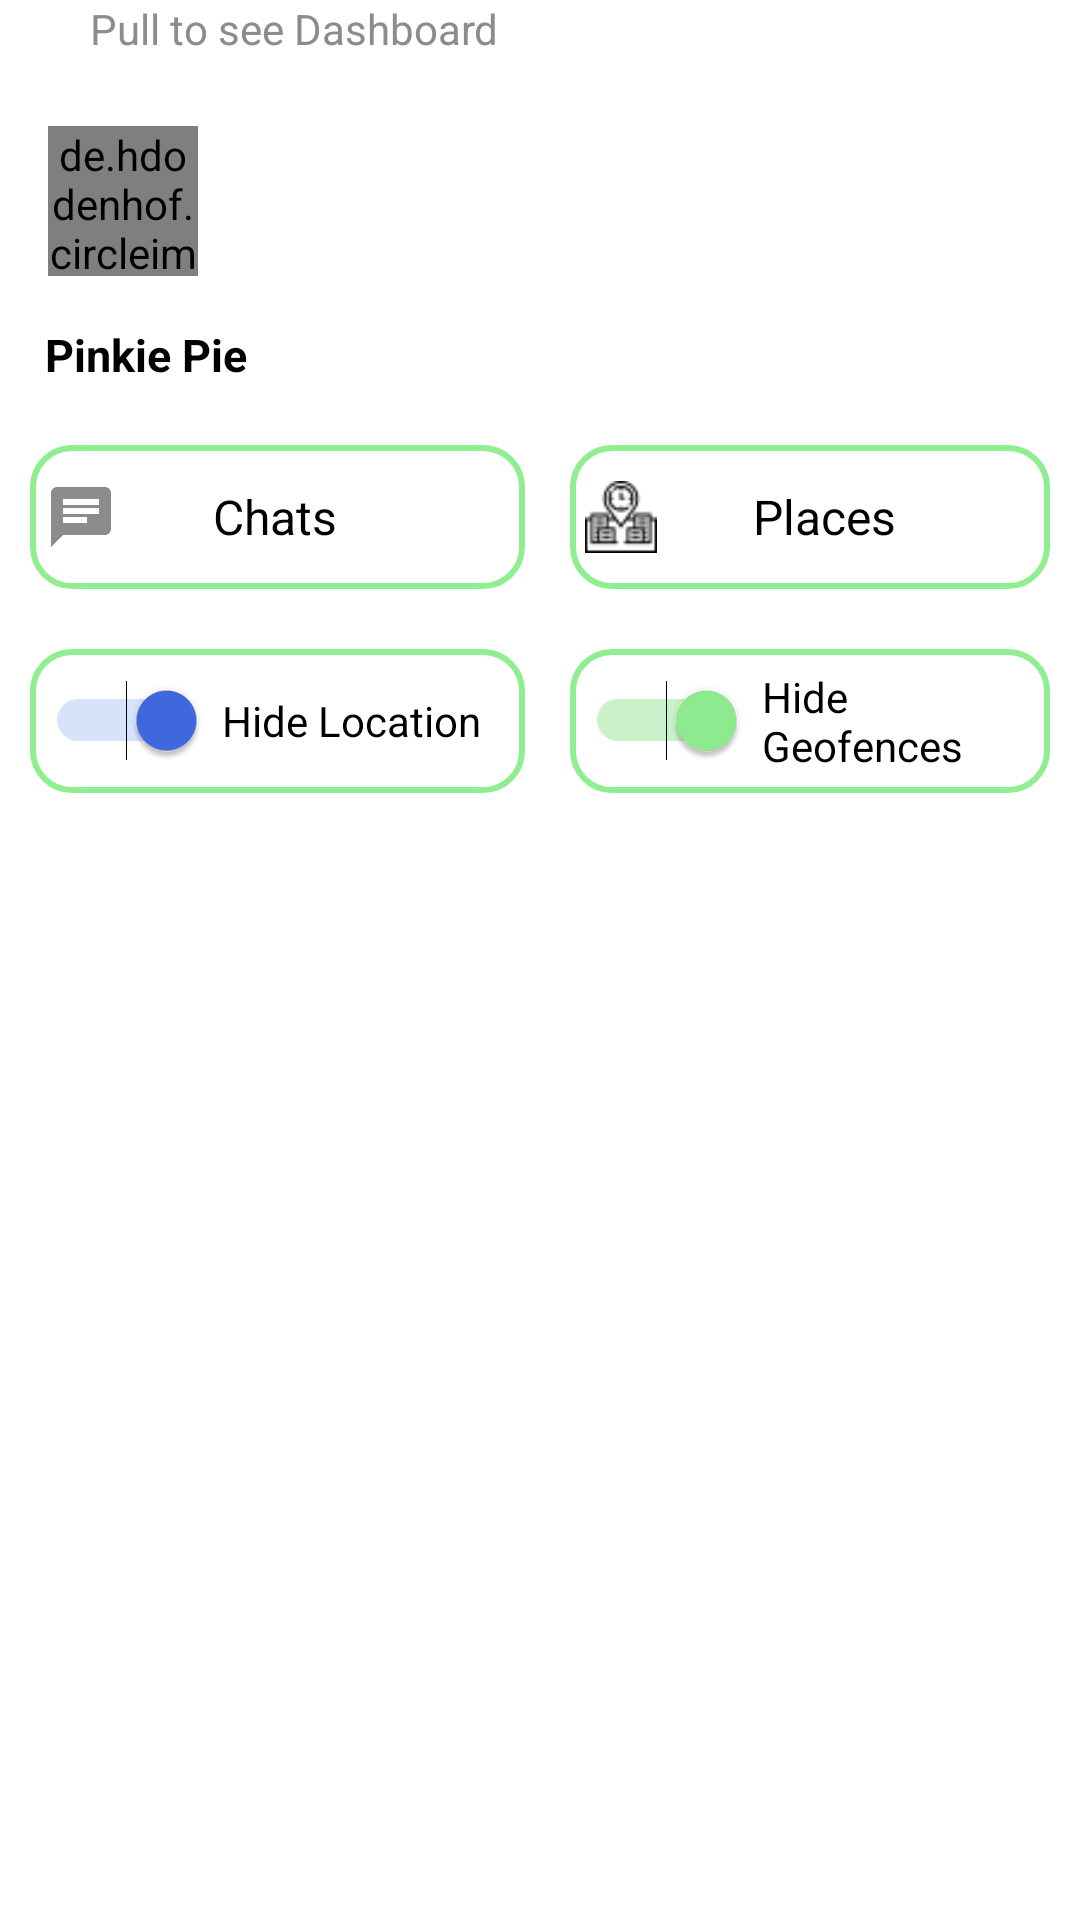

Icons on this 1080px×1920px Android screen, each with its box as [left=x1, top=y1, right=x2, bottom=y2]:
chat image button: [left=51, top=487, right=111, bottom=547]
place image button view: [left=585, top=481, right=657, bottom=553]
